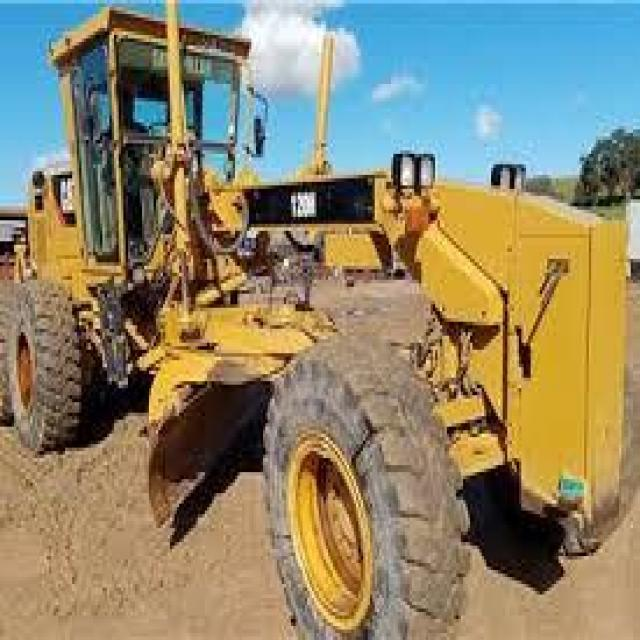Grader: (9, 4, 636, 633)
